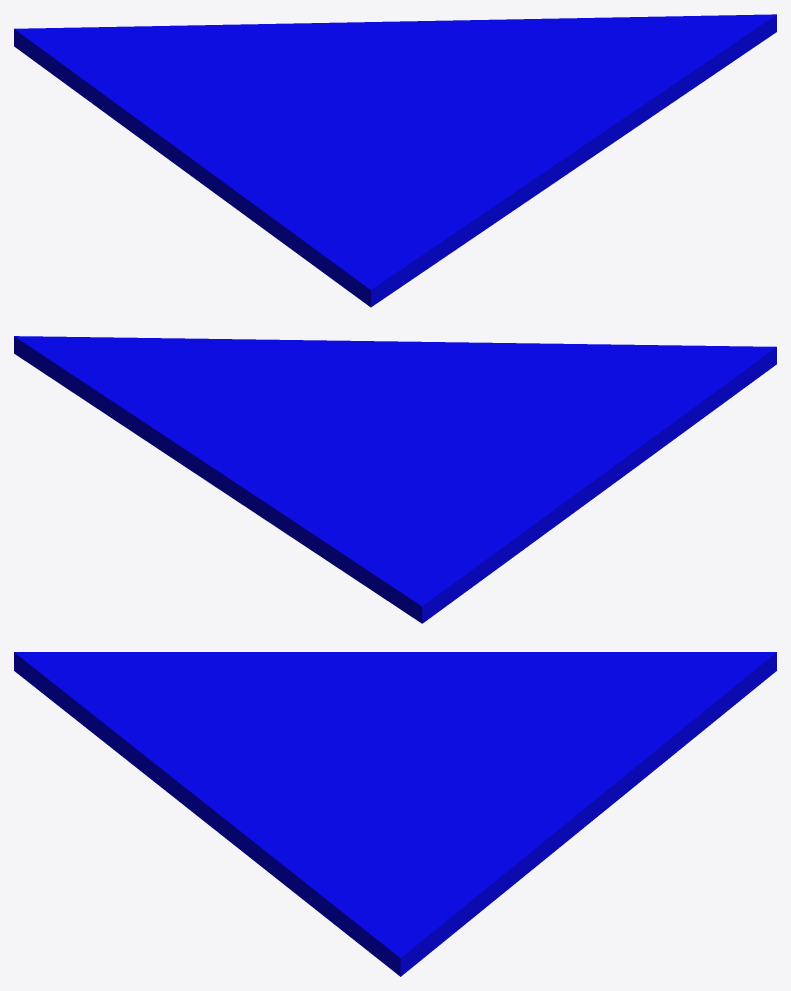
The model's file is trian_blue_s.dae.
3 renders of one model, top to bottom at view 1: azimuth 30°, elevation 25°; view 2: azimuth 150°, elevation 25°; view 3: azimuth 270°, elevation 25°, orthographic. The views are drawn at different scales.
Parts seen in each view (by area): view 1: skpAFF6; view 2: skpAFF6; view 3: skpAFF6.
Boxes of the visible parts, x1,y1,x2,y2 form: skpAFF6: (14, 14, 776, 307); skpAFF6: (14, 336, 776, 623); skpAFF6: (14, 652, 776, 976).
Size of the model in its own units: 21.52 by 22.66 by 0.6156.
